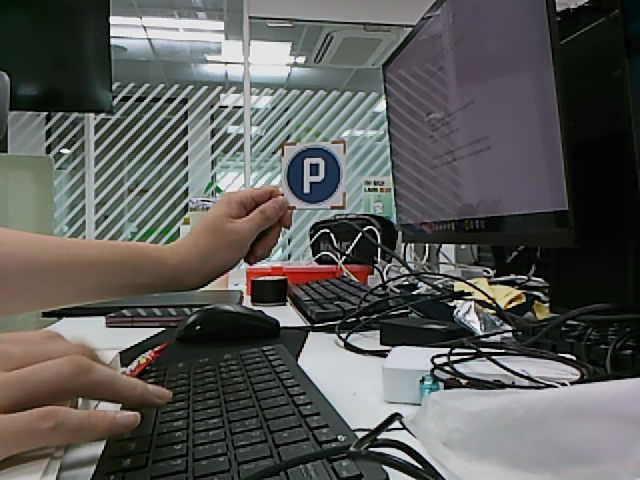park: (287, 147, 341, 204)
